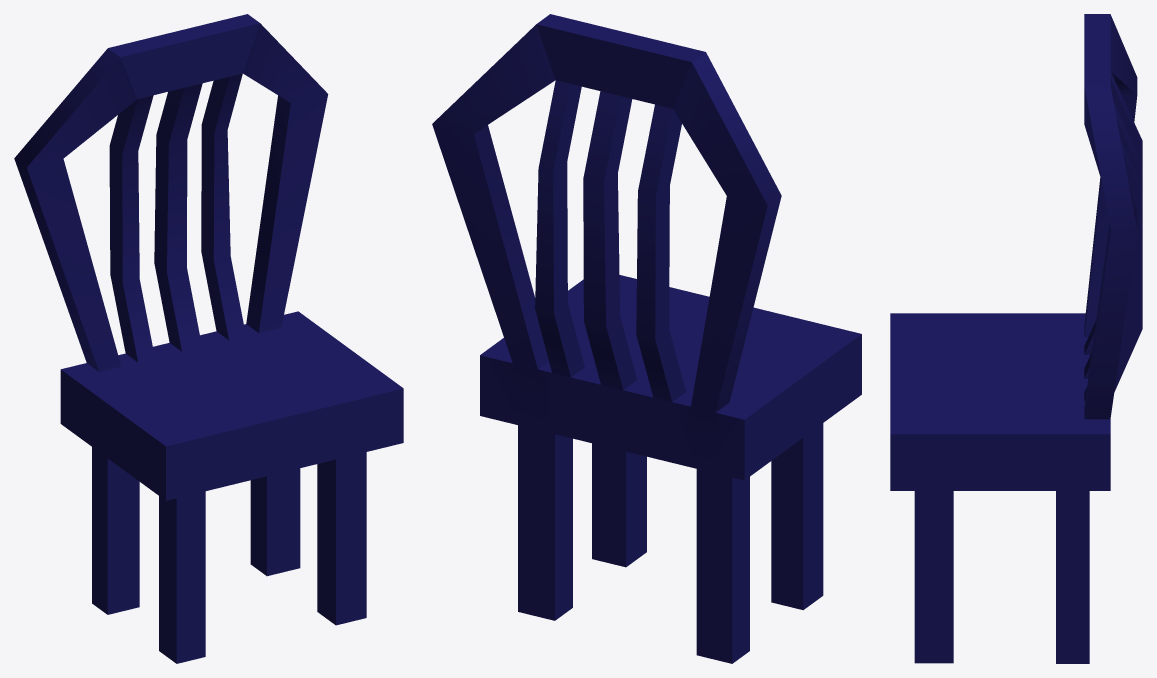
The model's file is Chair.obj.
The picture shows the model from 3 angles, left to right: view 1: azimuth 30°, elevation 25°; view 2: azimuth 150°, elevation 25°; view 3: azimuth 270°, elevation 25°; orthographic projection. The views are drawn at different scales.
Parts seen in each view (by area): view 1: pCube10; view 2: pCube10; view 3: pCube10.
Boxes of the visible parts, x1,y1,x2,y2 form: pCube10: (14, 14, 403, 663); pCube10: (432, 14, 861, 663); pCube10: (890, 14, 1142, 663).
Bounding box in the file's own units: 5.79 × 9.94 × 4.02.
